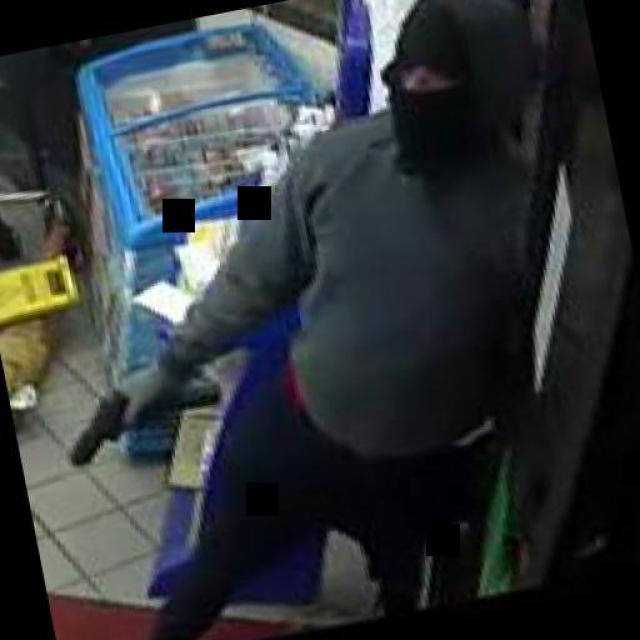gun: (52, 369, 186, 469)
